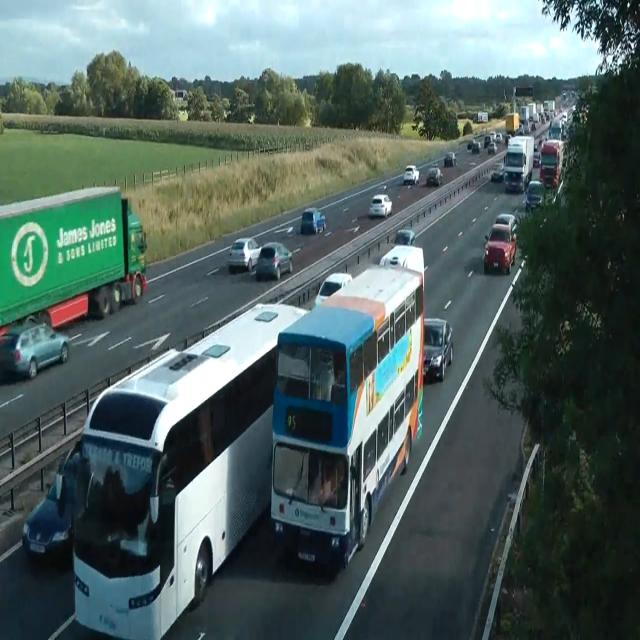bus: (0, 322, 69, 379), (422, 318, 453, 382), (255, 241, 292, 281), (315, 272, 353, 307), (228, 236, 261, 272), (300, 207, 326, 235), (494, 212, 518, 238), (368, 194, 392, 218), (394, 228, 414, 246), (426, 166, 443, 187), (403, 164, 419, 185), (494, 212, 516, 226), (490, 162, 504, 180), (444, 151, 456, 167), (467, 139, 480, 153), (533, 150, 541, 167), (487, 141, 497, 154), (484, 134, 490, 148), (496, 132, 502, 142)
car: (70, 300, 308, 638), (269, 261, 425, 569)
jeep: (21, 440, 80, 563), (484, 222, 516, 274), (539, 138, 561, 188), (524, 178, 546, 212)
minibus: (0, 184, 147, 337), (503, 135, 534, 192), (505, 112, 519, 135), (476, 111, 488, 123)
